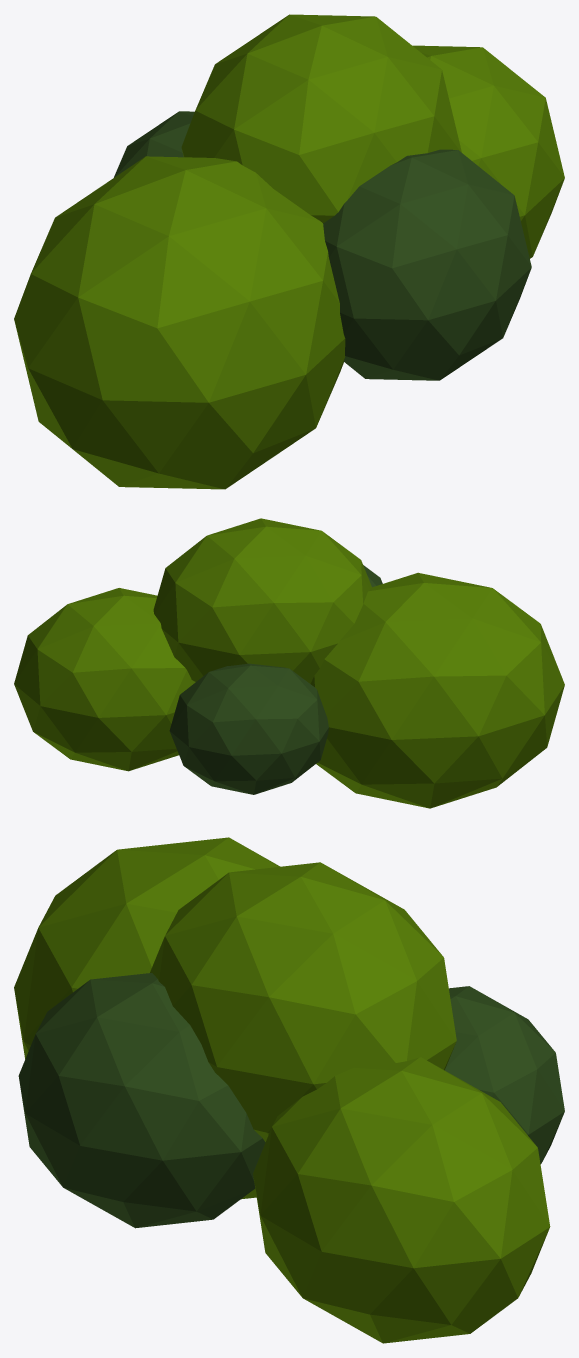
Rendered from Bush.glb.
3 views of the same model, one above another, from view 1: azimuth 30°, elevation 25°; view 2: azimuth 150°, elevation 25°; view 3: azimuth 270°, elevation 25° (orthographic). The views are drawn at different scales.
Visible parts, largest first — view 1: Bush; view 2: Bush; view 3: Bush.
Boxes of the visible parts, x1=… form: Bush: x1=14, y1=14, x2=564, y2=489; Bush: x1=14, y1=518, x2=564, y2=808; Bush: x1=14, y1=837, x2=564, y2=1343.
Bounding box in the file's own units: 2.45 × 1.39 × 1.71.
